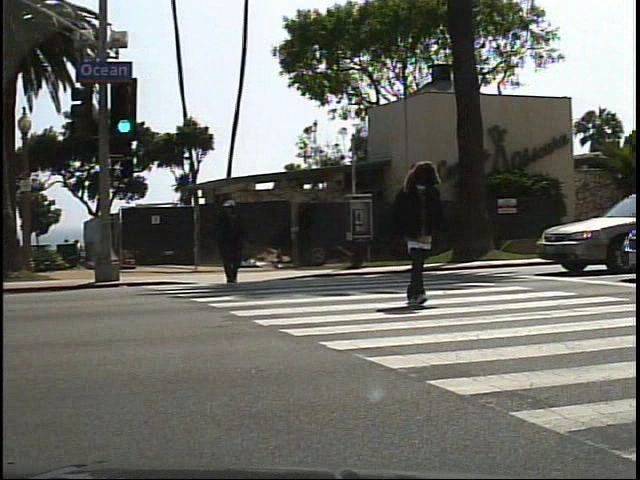person: (387, 157, 464, 316), (213, 193, 250, 289)
